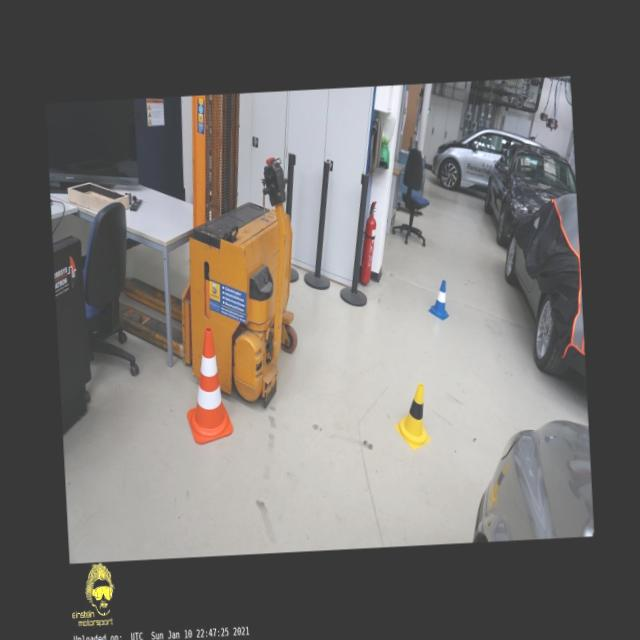blue_cone: (426, 281, 449, 321)
large_orange_cone: (183, 327, 234, 445)
yellow_cone: (392, 382, 431, 452)
